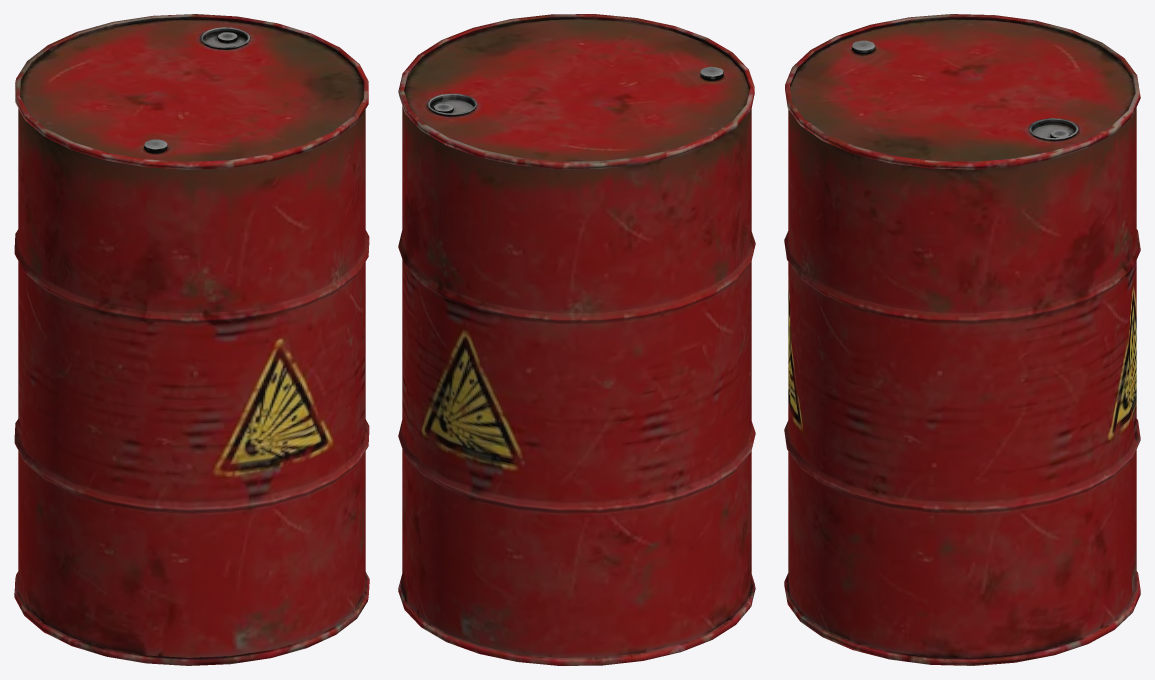
Rendered from Barrel_01.glb.
3 renders of one model, left to right at view 1: azimuth 30°, elevation 25°; view 2: azimuth 150°, elevation 25°; view 3: azimuth 270°, elevation 25°, orthographic.
Parts seen in each view (by area): view 1: Barrel_01; view 2: Barrel_01; view 3: Barrel_01.
Part boxes in pixels (bbox=[...]): Barrel_01: bbox=[14, 14, 369, 665]; Barrel_01: bbox=[398, 14, 755, 665]; Barrel_01: bbox=[784, 14, 1140, 665].
Size of the model in its own units: 0.5631 by 0.88 by 0.5631.
Materials: 1 (1 with a texture image).
